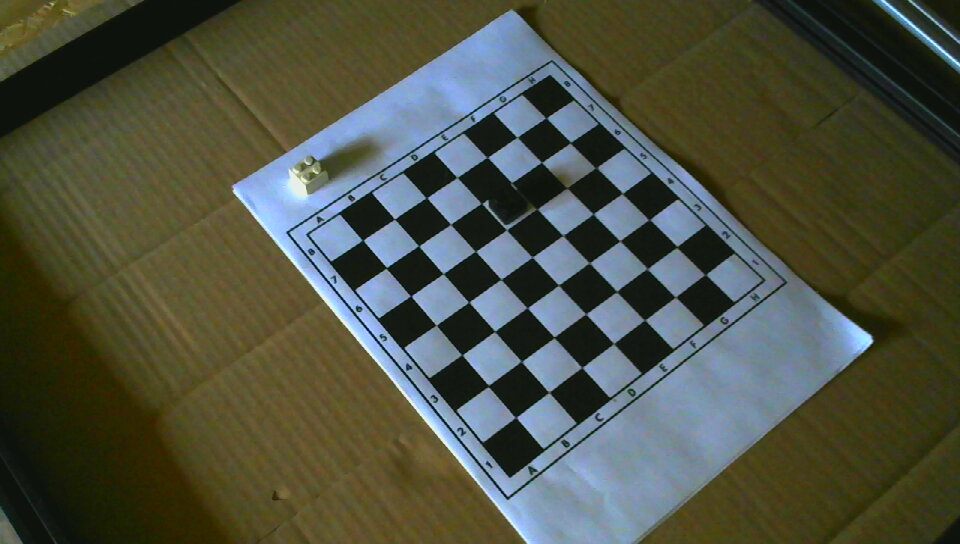bp: (487, 184, 529, 223)
wp: (288, 154, 331, 196)
